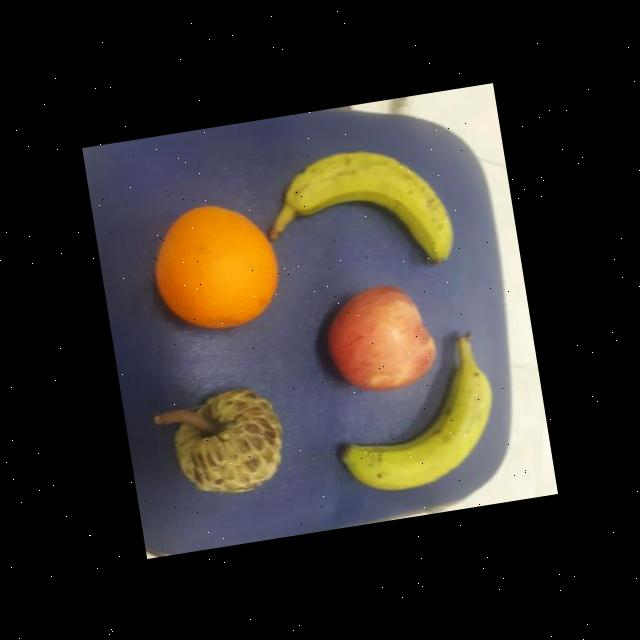Sakya fruit: (168, 380, 292, 500)
apple: (318, 277, 444, 398)
banana: (322, 326, 506, 498), (264, 138, 458, 286)
orange: (146, 192, 288, 338)
